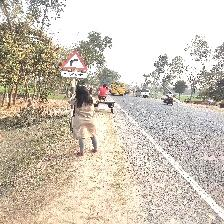Right-turn: (60, 51, 88, 79)
